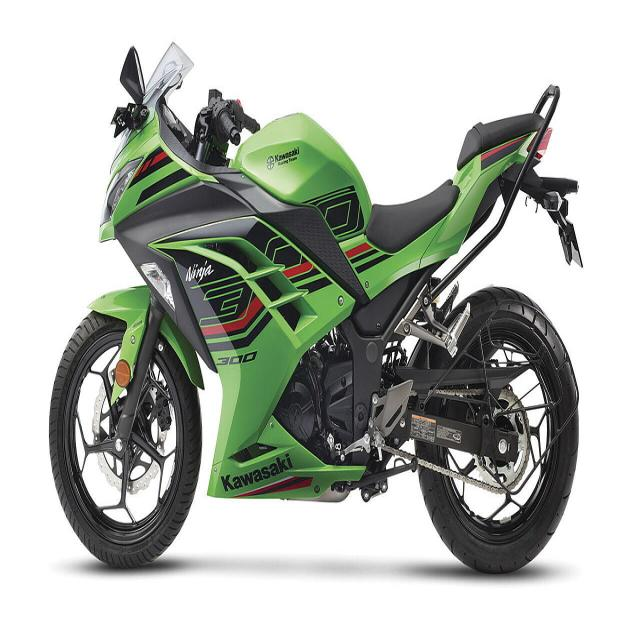motorcycle: (51, 44, 579, 570)
